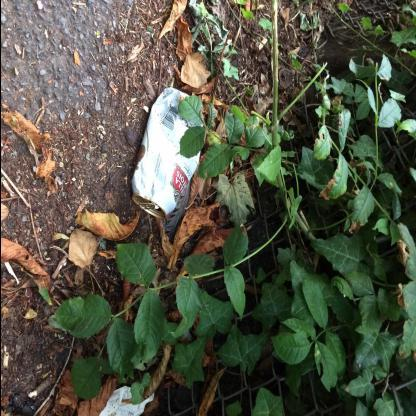metal: (130, 87, 204, 220)
